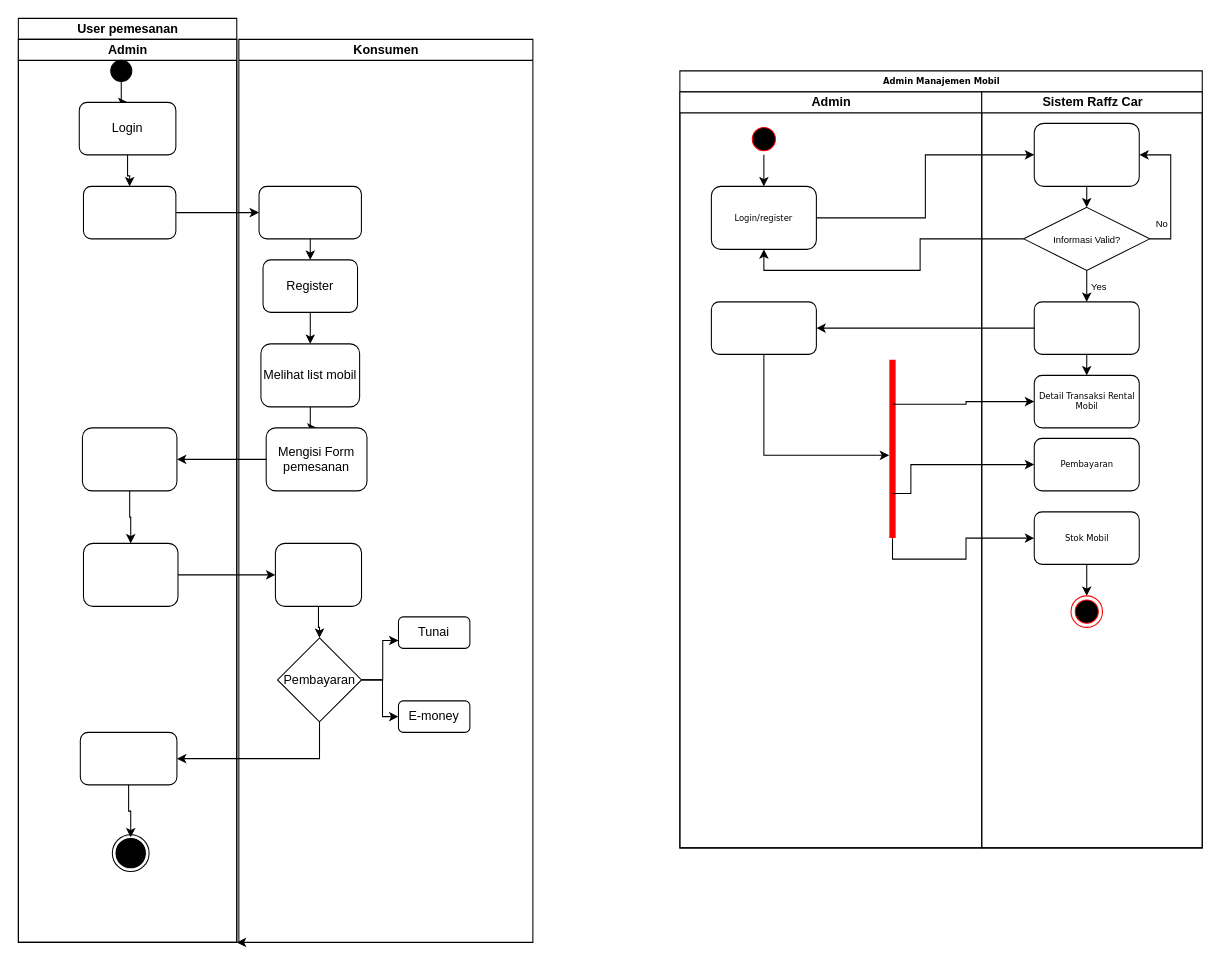
Image size: 1221x969. Some labels were removed from this diagram. Here are the shapes that lost their labels. From the top down, the centre of each, then its label:
At [1086,154]: "Mengakses Form login/register".
At [129,212]: "Memberikan informasi mobil".
At [309,212]: "Menerima Informasi".
At [763,327]: "Memonitor Aktifitas Rental Mobil".
At [1086,327]: "Sistem Dashboard".
At [129,459]: "Memeriksa informasi pemesanan pelanggan".
At [130,574]: "Konfirmasi Pemesanan".
At [318,574]: "Melakukan Pembayaran".
At [128,758]: "Cetak Pembayaran".
